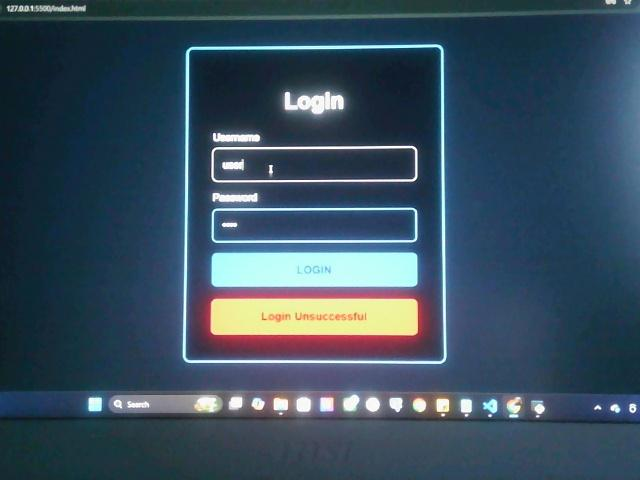login_button: (211, 252, 418, 289)
login_form: (185, 45, 446, 364)
password_input: (211, 207, 419, 244)
title_text: (279, 86, 350, 117)
unsuccess_alert: (209, 297, 420, 336)
username_input: (210, 146, 420, 183)
